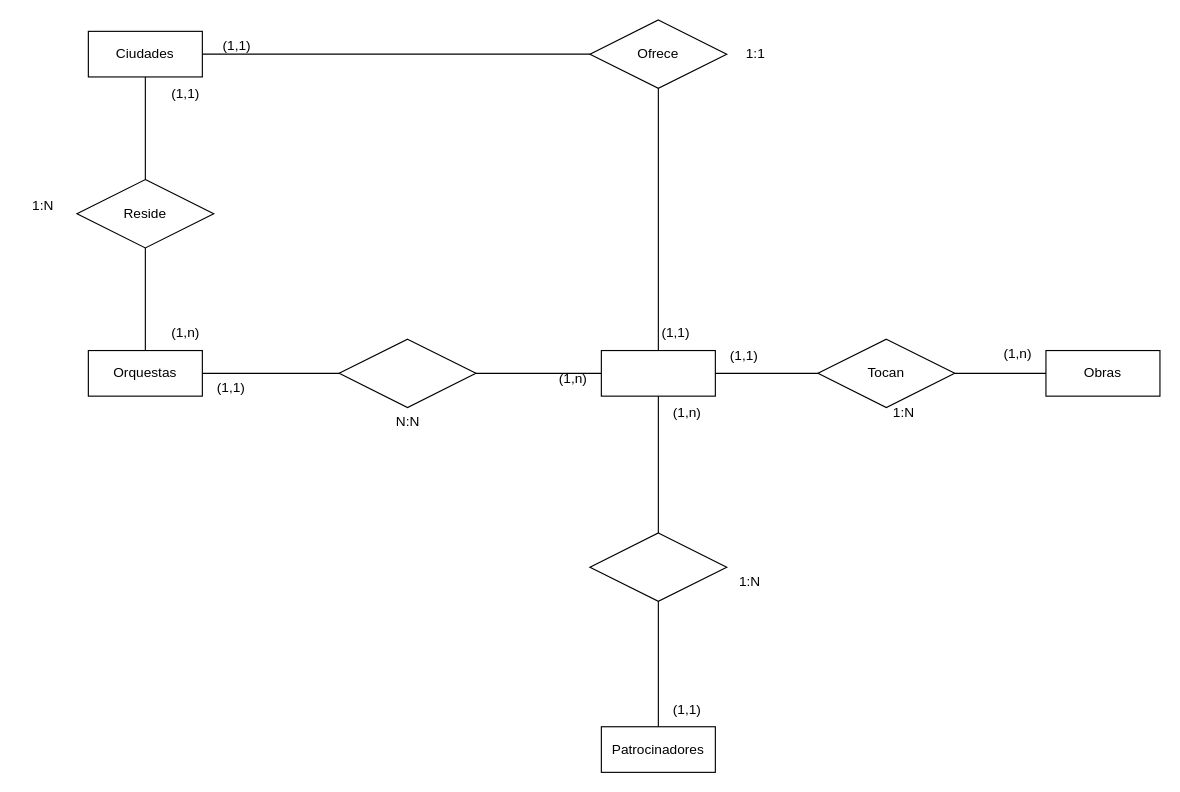
This 1180x792 diagram has some shape labels left out. The shapes that lost their labels are listed below. From the top down, each one's centre as x and y in pixels, then its label:
At [407,373]: "Realiza".
At [657,372]: "Conciertos".
At [658,566]: "Patrocina".
